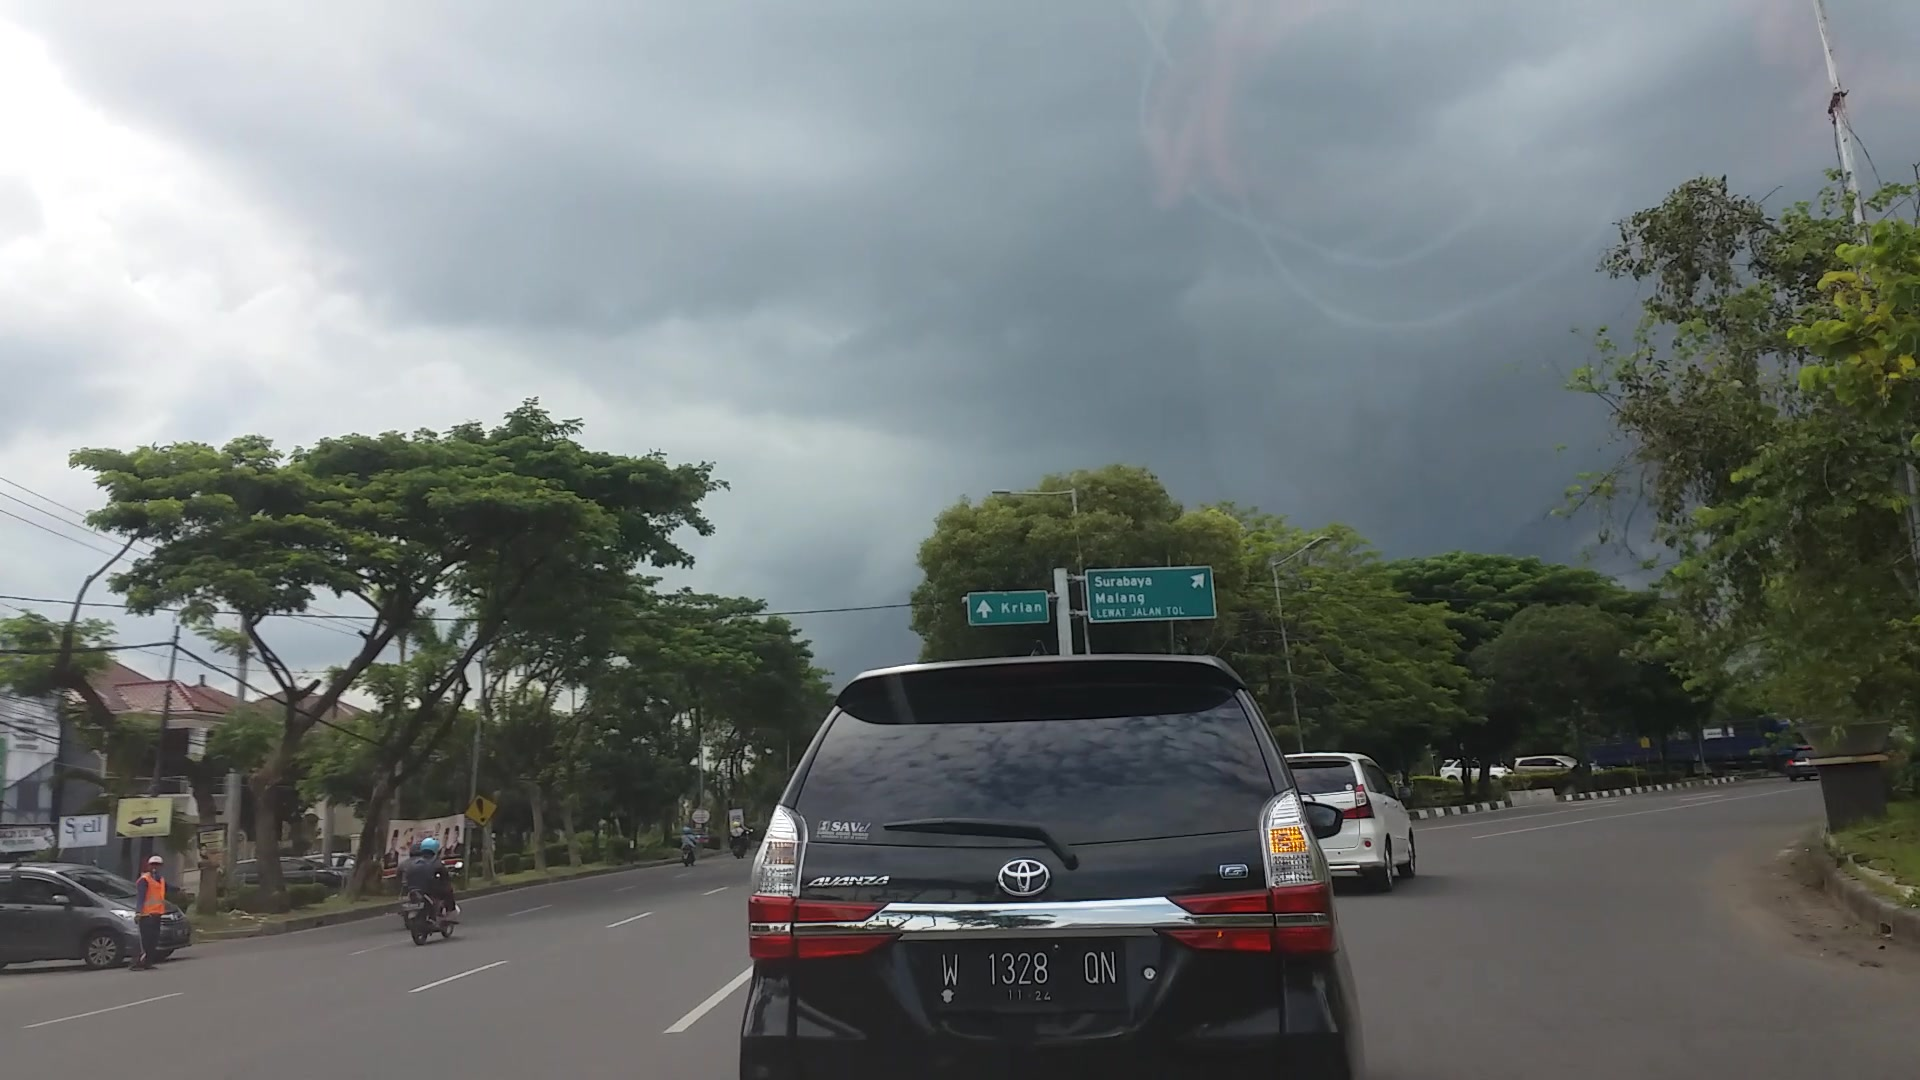plate_positive: (938, 939, 1121, 1006)
